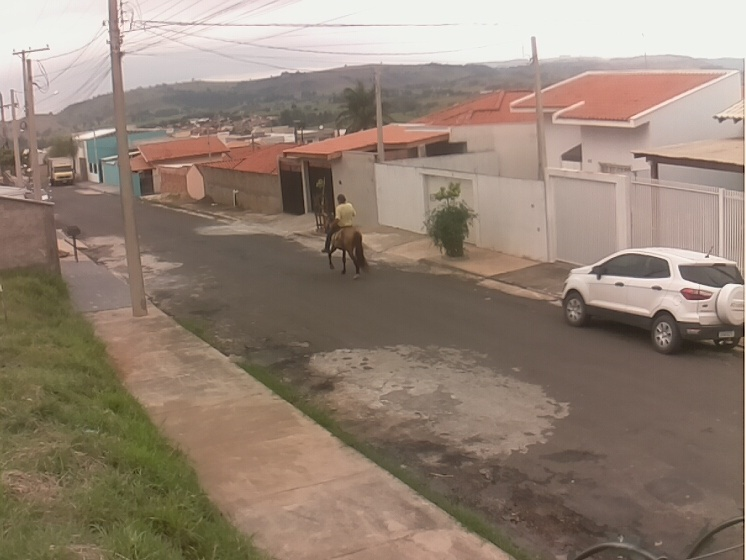person: (320, 192, 357, 258)
